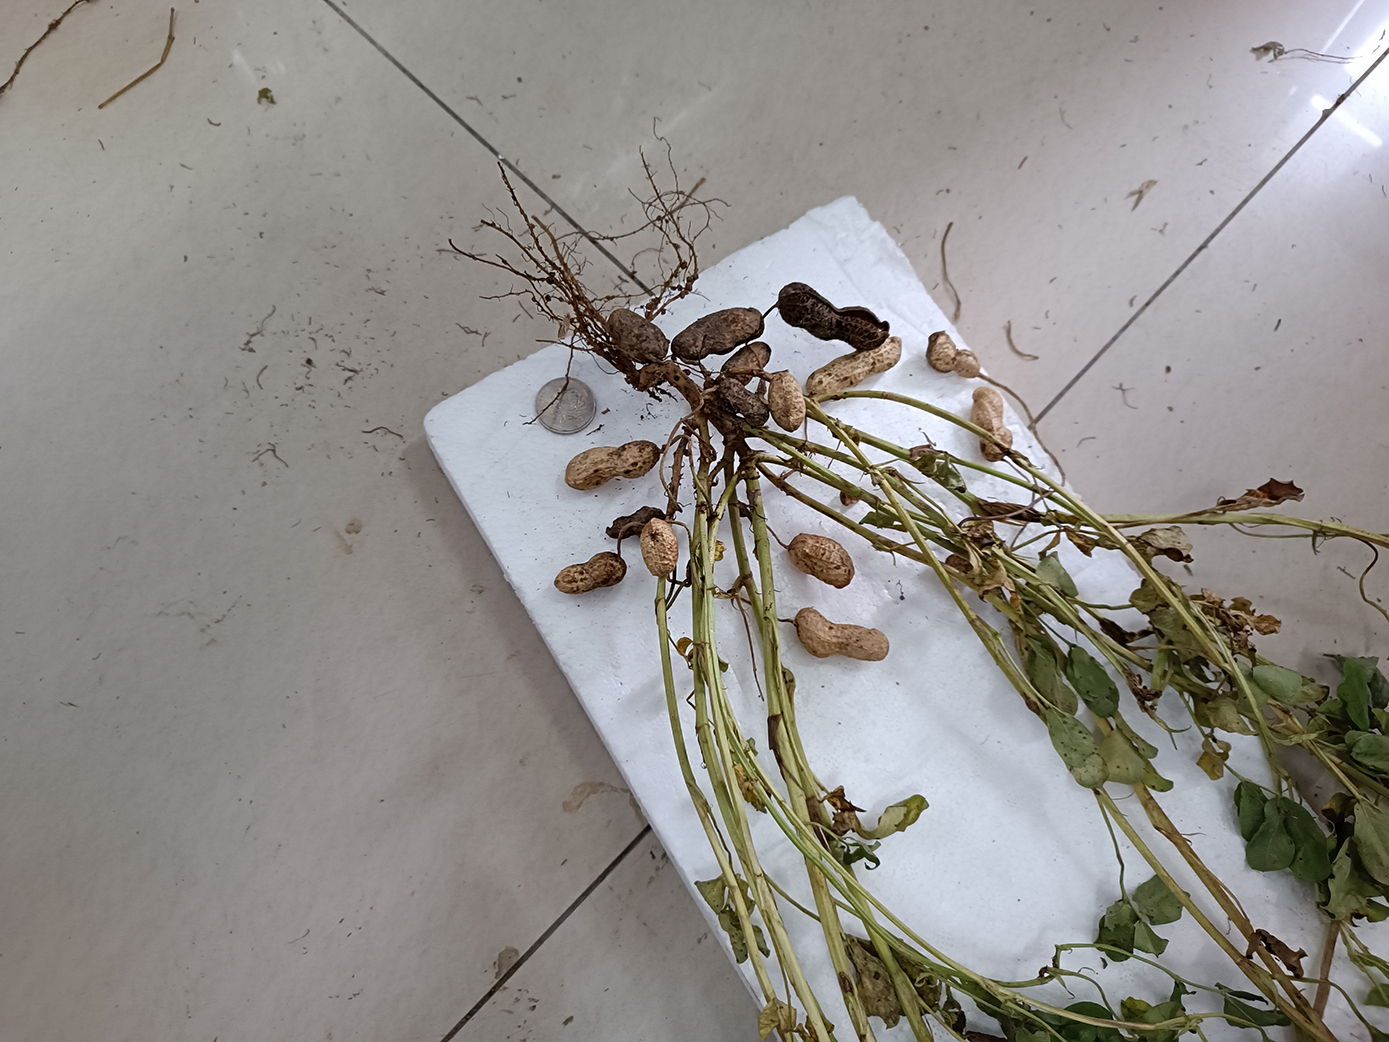h: (805, 335, 902, 398), (796, 607, 890, 662), (564, 439, 660, 489), (789, 533, 856, 590), (970, 387, 1014, 462), (928, 332, 979, 377), (640, 517, 678, 577), (768, 374, 806, 430)
l: (776, 281, 891, 349), (671, 306, 767, 359), (609, 310, 668, 362), (553, 553, 627, 594), (719, 378, 769, 428), (606, 503, 669, 539), (724, 340, 771, 383)
